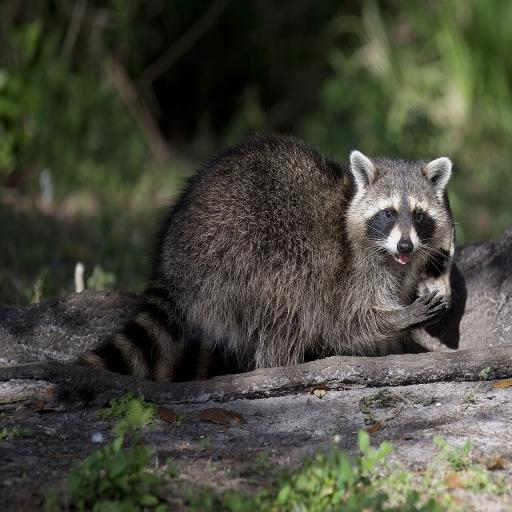raccoon: (81, 137, 453, 380)
